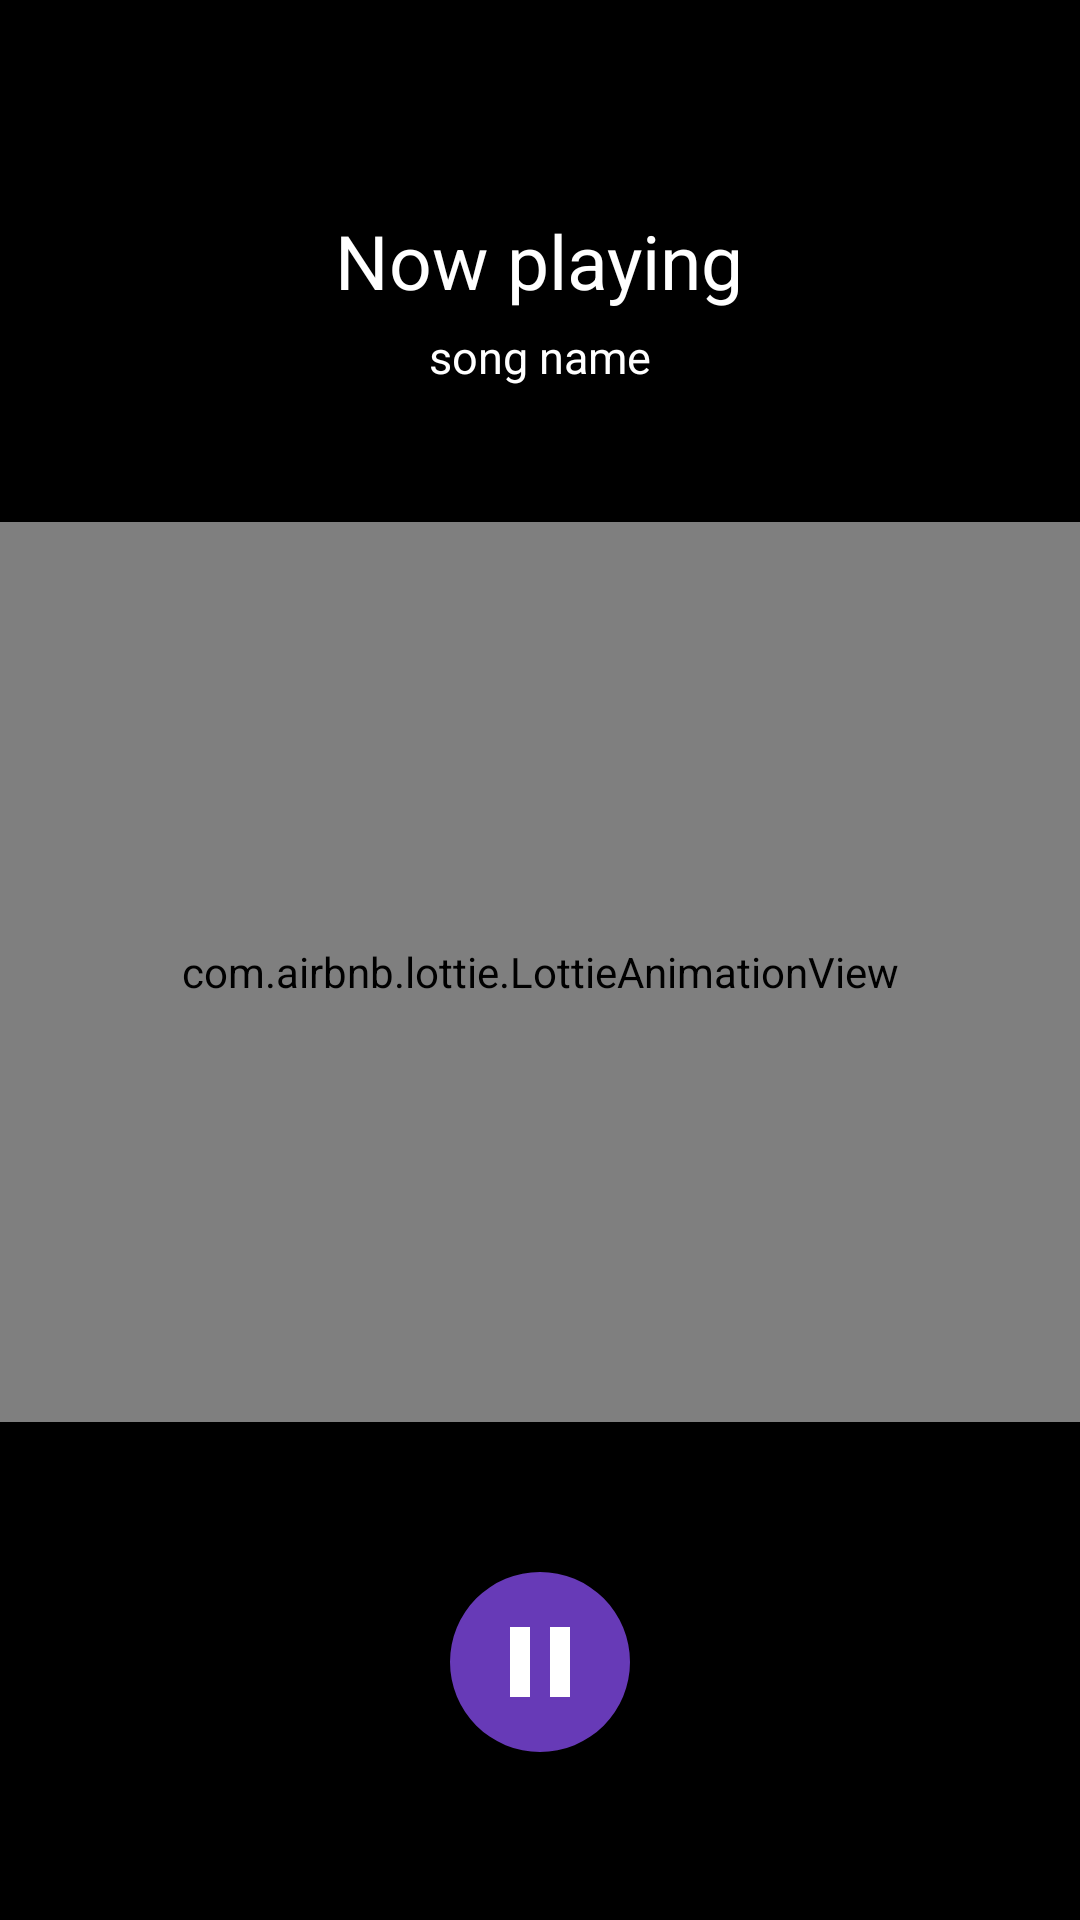

Where to tap for icons on this 1080×1920 app screen, as [x,y]:
pause: [540,1662]
